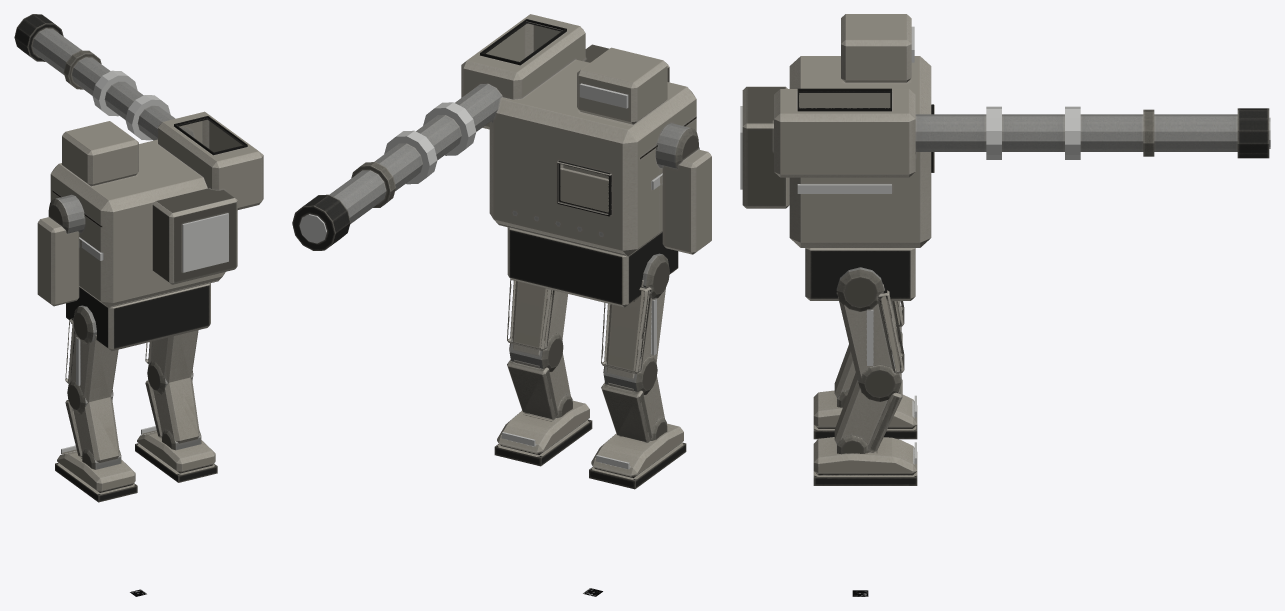
File: ord_mace.fbx
The picture shows the model from 3 angles, left to right: view 1: azimuth 30°, elevation 25°; view 2: azimuth 150°, elevation 25°; view 3: azimuth 270°, elevation 25°; orthographic projection. The views are drawn at different scales.
Visible parts, largest first — view 1: torso_bar, base_bar, torso_glow_power_bar, thighL_bar, shinL_bar, shinR_bar, footR_bar, footL_bar, thighR_bar; view 2: torso_bar, base_bar, thighL_bar, thighR_bar, footR_bar, footL_bar, shinL_bar, shinR_bar, torso_glow_power_bar, torso_glow_head_bar, torso_glow_weapon_bar; view 3: torso_bar, thighR_bar, base_bar, footR_bar, shinR_bar, footL_bar, torso_glow_power_bar, torso_glow_running_bar, shinL_bar.
Boxes of the visible parts, x1,y1,x2,y2 form: torso_bar: (14, 14, 263, 307); base_bar: (66, 283, 210, 351); torso_glow_power_bar: (92, 70, 228, 272); thighL_bar: (65, 305, 118, 413); shinL_bar: (65, 397, 121, 469); shinR_bar: (145, 377, 201, 450); footR_bar: (135, 431, 217, 482); footL_bar: (55, 451, 137, 502); thighR_bar: (145, 330, 198, 394); torso_bar: (292, 14, 711, 256); base_bar: (507, 227, 678, 307); thighL_bar: (601, 253, 669, 394); thighR_bar: (507, 279, 567, 371); footR_bar: (494, 400, 592, 466); footL_bar: (589, 423, 686, 489); shinL_bar: (601, 377, 667, 442); shinR_bar: (507, 353, 572, 419); torso_glow_power_bar: (384, 102, 476, 184); torso_glow_head_bar: (579, 83, 628, 108); torso_glow_weapon_bar: (299, 214, 326, 243); torso_bar: (742, 14, 1269, 247); thighR_bar: (836, 267, 904, 401); base_bar: (805, 248, 915, 300); footR_bar: (813, 437, 917, 485); shinR_bar: (834, 373, 902, 454); footL_bar: (813, 390, 917, 439); torso_glow_power_bar: (740, 106, 1080, 189); torso_glow_running_bar: (797, 184, 891, 193); shinL_bar: (834, 332, 902, 407).
Bounding box in the file's own units: 325 × 770 × 675.
Materials: 2 (2 with a texture image).
